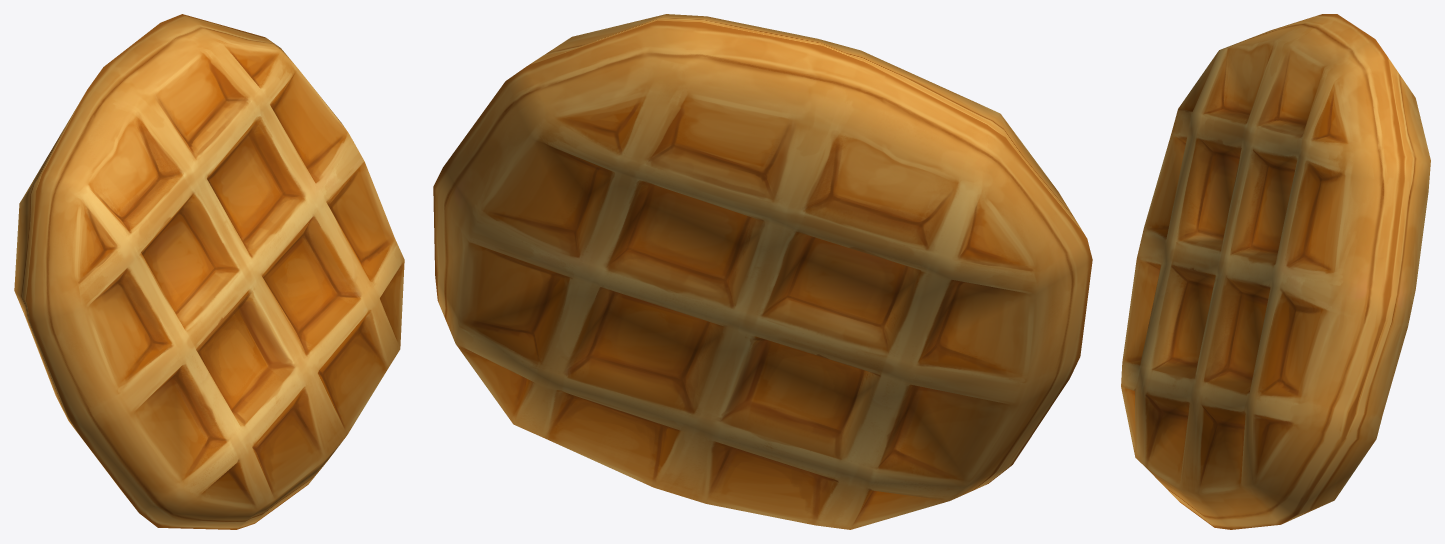
The model's file is Waffle.FBX.
3 renders of one model, left to right at view 1: azimuth 30°, elevation 25°; view 2: azimuth 150°, elevation 25°; view 3: azimuth 270°, elevation 25°, orthographic. The views are drawn at different scales.
Visible parts, largest first — view 1: Waffle; view 2: Waffle; view 3: Waffle.
Part boxes in pixels (bbox=[...]): Waffle: bbox=[14, 14, 404, 529]; Waffle: bbox=[433, 14, 1092, 529]; Waffle: bbox=[1121, 14, 1430, 529].
Bounding box in the file's own units: 21.34 × 20.83 × 12.67.
